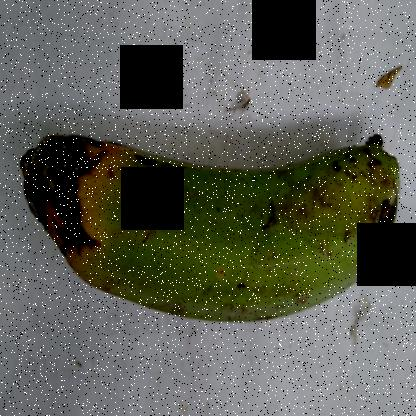rotten: (16, 108, 139, 321)
unripe: (120, 126, 414, 348)
